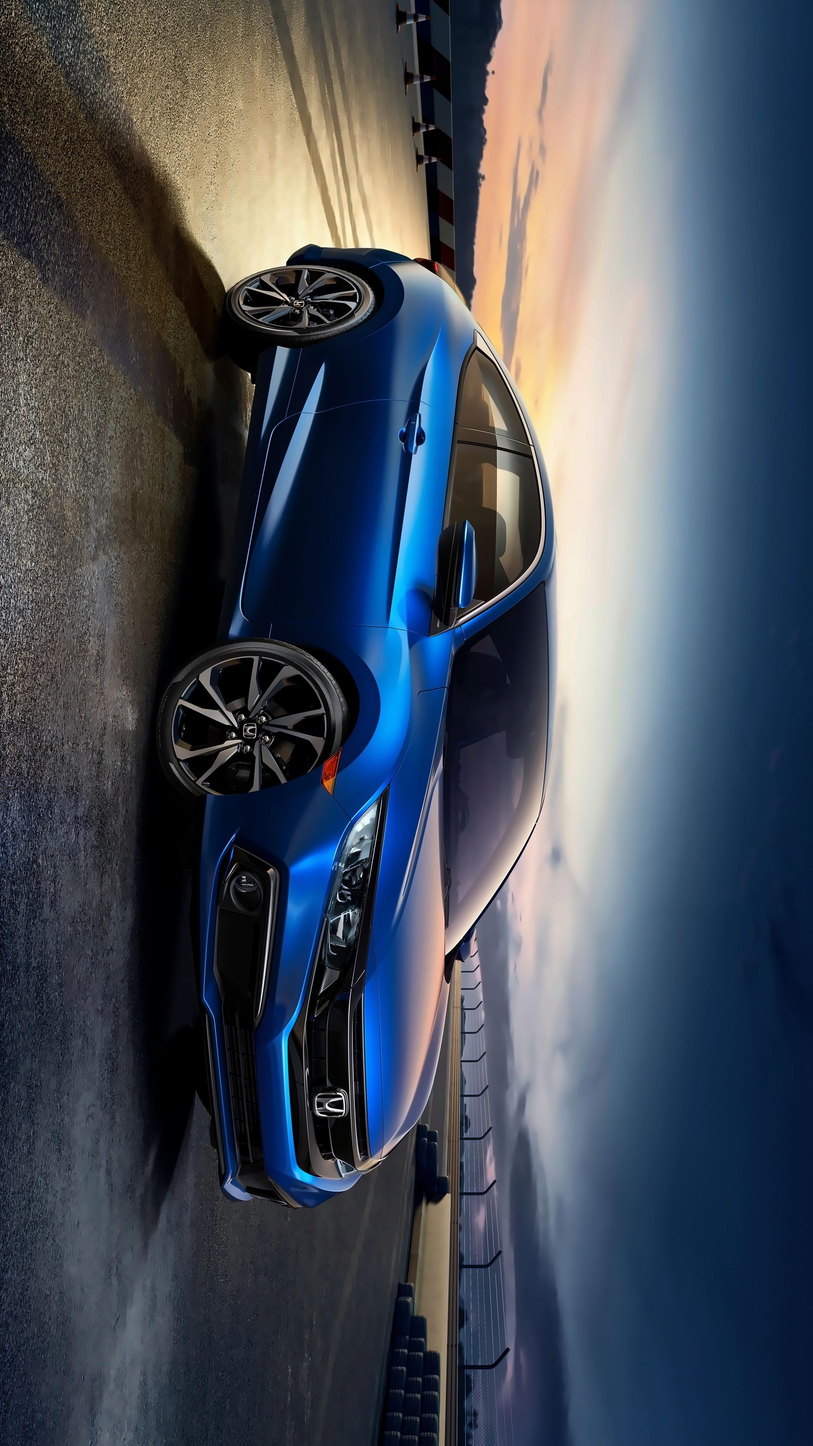Car hood: (369, 687, 454, 1159)
Driver-s door - -F-R-: (221, 426, 558, 645)
Fender - -F-R-: (214, 607, 448, 822)
Fender - -R-R-: (266, 248, 464, 442)
Front bumper: (175, 775, 357, 1202)
Headlight - -R-: (293, 775, 397, 1033)
Side bumper - -R-: (208, 325, 310, 654)
Side mirror - -R-: (418, 507, 487, 631)
